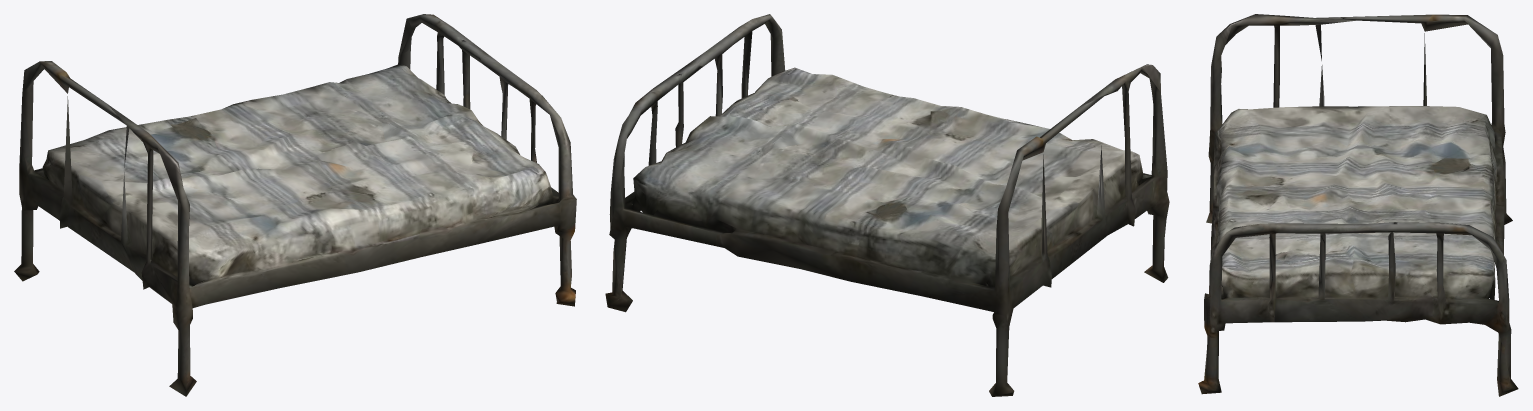
File: e_bed.glb
3 renders of one model, left to right at view 1: azimuth 30°, elevation 25°; view 2: azimuth 150°, elevation 25°; view 3: azimuth 270°, elevation 25°, orthographic. The views are drawn at different scales.
Visible parts, largest first — view 1: tripo_node_e5c07459-a1e1-4ced-99e1-f7e4e84bdb88; view 2: tripo_node_e5c07459-a1e1-4ced-99e1-f7e4e84bdb88; view 3: tripo_node_e5c07459-a1e1-4ced-99e1-f7e4e84bdb88.
Part boxes in pixels (x1=…): tripo_node_e5c07459-a1e1-4ced-99e1-f7e4e84bdb88: x1=14, y1=14, x2=576, y2=396; tripo_node_e5c07459-a1e1-4ced-99e1-f7e4e84bdb88: x1=605, y1=14, x2=1169, y2=396; tripo_node_e5c07459-a1e1-4ced-99e1-f7e4e84bdb88: x1=1198, y1=14, x2=1518, y2=396.
Bounding box in the file's own units: 1 × 0.556 × 0.7623.
1 material, 1 textured.
